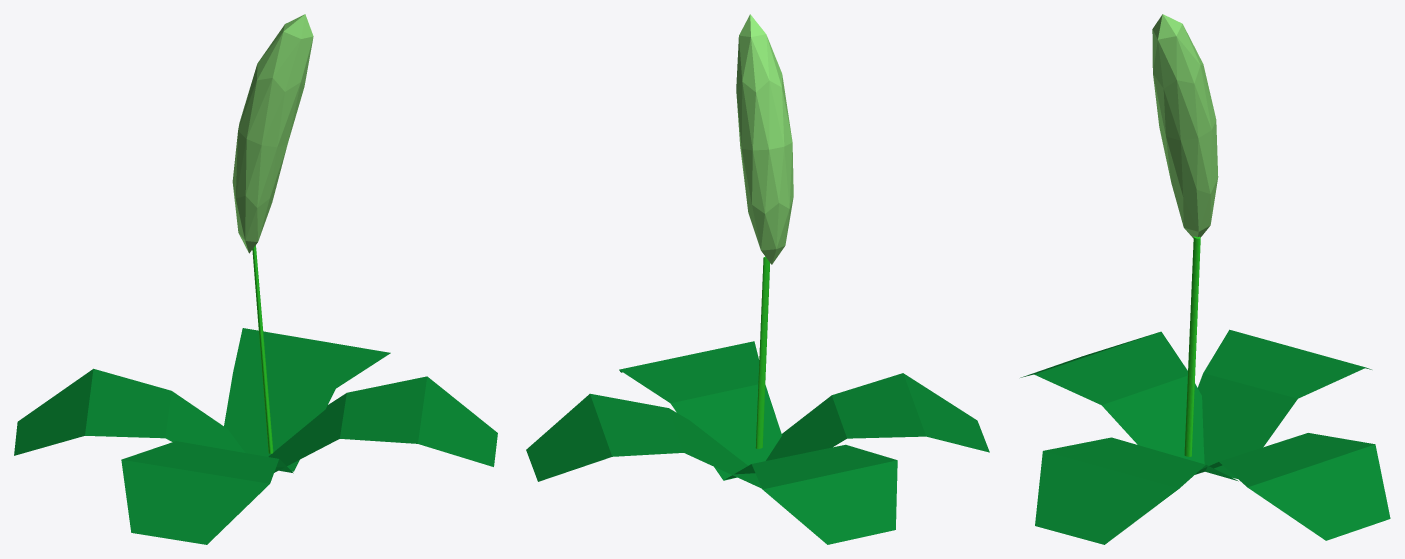
Rendered from Grass.glb.
3 views of the same model, side by side, from view 1: azimuth 30°, elevation 25°; view 2: azimuth 150°, elevation 25°; view 3: azimuth 270°, elevation 25° (orthographic). The views are drawn at different scales.
Parts seen in each view (by area): view 1: 平面.007, 棱角球, 柱体; view 2: 平面.007, 棱角球, 柱体; view 3: 平面.007, 棱角球, 柱体.
Part boxes in pixels (x1,y1,x2,y2): 平面.007: [14, 328, 497, 544]; 棱角球: [232, 14, 313, 253]; 柱体: [252, 245, 273, 453]; 平面.007: [526, 341, 989, 544]; 棱角球: [736, 14, 793, 264]; 柱体: [755, 256, 770, 448]; 平面.007: [1020, 329, 1390, 544]; 棱角球: [1152, 14, 1218, 238]; 柱体: [1184, 236, 1200, 456].
Size of the model in its own units: 2.23 by 2.54 by 1.81.
